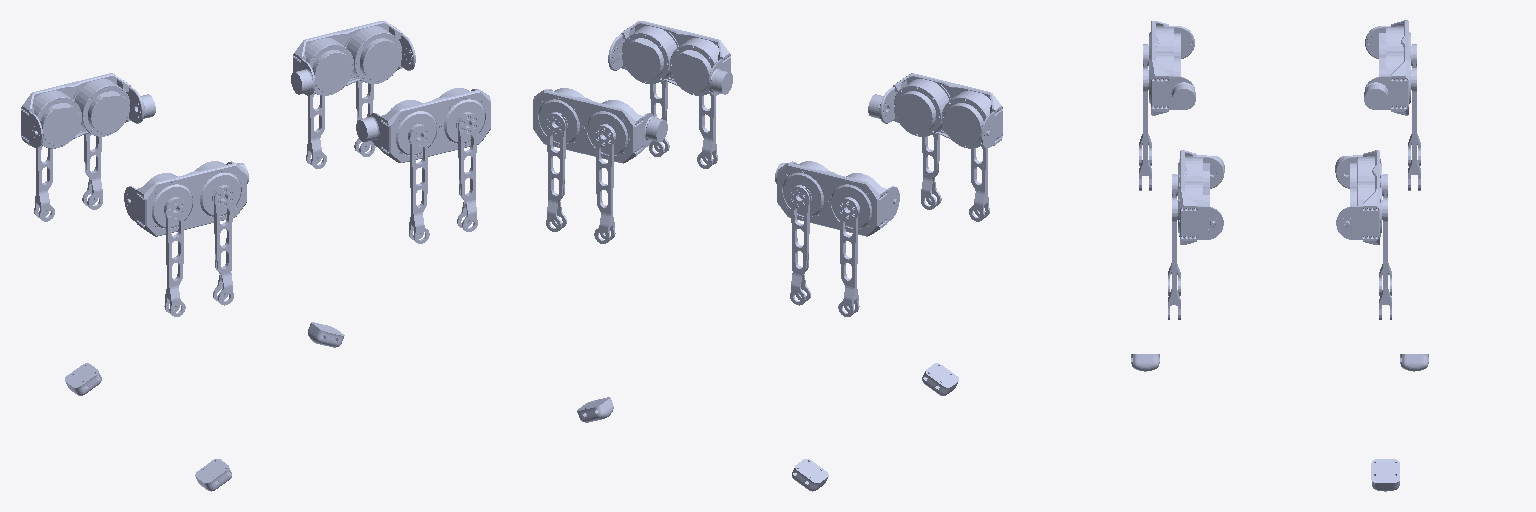
--- What the picture shows (computed from the rendered views, not written in the file) ---
The picture shows the robot from 3 angles, left to right: view 1: azimuth 30°, elevation 25°; view 2: azimuth 150°, elevation 25°; view 3: azimuth 270°, elevation 25°; orthographic projection.
Model olympus_description with 26 links and 25 joints (20 revolute, 5 fixed), rooted at world, posed all joints at 0.
Visible links, largest first — view 1: BackLeft_motorHousing, FrontLeft_motorHousing, FrontRight_motorHousing, BackRight_motorHousing, BackRight_hip_inner, FrontRight_hip_outer, FrontRight_hip_inner, BackRight_hip_outer, BackLeft_hip_inner, BackLeft_hip_outer, FrontLeft_hip_inner, BackLeft_paw (+3 smaller); view 2: BackRight_motorHousing, FrontRight_motorHousing, FrontLeft_motorHousing, BackLeft_motorHousing, BackLeft_hip_inner, FrontLeft_hip_outer, FrontLeft_hip_inner, BackLeft_hip_outer, BackRight_hip_inner, BackRight_hip_outer, FrontRight_hip_inner, BackRight_paw (+3 smaller); view 3: BackLeft_motorHousing, BackRight_motorHousing, FrontLeft_motorHousing, FrontRight_motorHousing, FrontLeft_paw, BackRight_hip_inner, BackLeft_hip_inner, FrontRight_hip_outer, FrontLeft_hip_outer.
Link boxes in pixels (<box>): BackLeft_motorHousing: <box>21,73,155,148</box>; FrontLeft_motorHousing: <box>291,21,415,95</box>; FrontRight_motorHousing: <box>356,88,490,162</box>; BackRight_motorHousing: <box>124,161,248,236</box>; BackRight_hip_inner: <box>212,185,234,305</box>; FrontRight_hip_outer: <box>456,112,478,231</box>; FrontRight_hip_inner: <box>408,124,429,243</box>; BackRight_hip_outer: <box>164,197,185,316</box>; BackLeft_hip_inner: <box>82,133,102,209</box>; BackLeft_hip_outer: <box>34,145,54,221</box>; FrontLeft_hip_inner: <box>306,93,326,168</box>; BackLeft_paw: <box>65,363,101,395</box>; BackRight_motorHousing: <box>868,73,1002,148</box>; FrontRight_motorHousing: <box>608,21,732,95</box>; FrontLeft_motorHousing: <box>533,88,667,163</box>; BackLeft_motorHousing: <box>775,161,899,236</box>; BackLeft_hip_inner: <box>789,185,811,305</box>; FrontLeft_hip_outer: <box>545,112,567,231</box>; FrontLeft_hip_inner: <box>594,124,615,243</box>; BackLeft_hip_outer: <box>838,197,859,316</box>; BackRight_hip_inner: <box>921,133,941,209</box>; BackRight_hip_outer: <box>969,145,989,221</box>; FrontRight_hip_inner: <box>697,93,717,168</box>; BackRight_paw: <box>922,363,958,395</box>; BackLeft_motorHousing: <box>1364,20,1410,115</box>; BackRight_motorHousing: <box>1149,21,1195,115</box>; FrontLeft_motorHousing: <box>1335,150,1381,244</box>; FrontRight_motorHousing: <box>1178,150,1224,244</box>; FrontLeft_paw: <box>1371,459,1399,491</box>; BackRight_hip_inner: <box>1139,68,1151,190</box>; BackLeft_hip_inner: <box>1408,68,1420,190</box>; FrontRight_hip_outer: <box>1168,198,1180,319</box>; FrontLeft_hip_outer: <box>1379,198,1391,319</box>.
Size in the robot's own frame: 0.677 by 0.4654 by 0.5616 metres.
15 mesh visuals loaded from 25 distinct referenced files (15 binary STL); not drawn: 10 (reference not matched to a file when rendering).

URDF robot description (olympus_description):
<?xml version="1.0" encoding="utf-8"?>
<!-- This URDF was automatically created by SolidWorks to URDF Exporter! Originally created by Stephen Brawner ([email redacted]) 
     Commit Version: 1.6.0-4-g7f85cfe  Build Version: 1.6.7995.38578
     For more information, please see http://wiki.ros.org/sw_urdf_exporter -->
<robot
  name="olympus_description">

  <link name="world"/>

  <link
    name="Body">
    <inertial>
      <origin
        xyz="-0.0093903 0.00018696 0.011109"
        rpy="0 0 0" />
      <mass
        value="5.679" />
      <inertia
        ixx="0.05428615"
        ixy="-0.00110179"
        ixz="-0.0017034"
        iyy="0.15070598"
        iyz="0.00013585"
        izz="0.19574722" />
    </inertial>
    <visual>
      <origin
        xyz="0 0 0"
        rpy="0 0 0" />
      <geometry>
        <mesh
          filename="package://olympus_description/urdf/meshes/Body.STL" />
      </geometry>
      <material
        name="">
        <color
          rgba="0.79216 0.81961 0.93333 1" />
      </material>
    </visual>
    <collision>
      <origin
        xyz="0 0 0"
        rpy="0 0 0" />
      <geometry>
        <mesh
          filename="package://olympus_description/urdf/meshes/Body.STL" />
      </geometry>
    </collision>
  </link>
  
  <joint name="world_joint" type="fixed" >
    <origin
          xyz="0 0 1"
          rpy="0 0 0" />
      <parent
        link="world" />
      <child
        link="Body" />
  </joint>
  
  <link
    name="FrontLeft_motorHousing">
    <inertial>
      <origin
        xyz="0.092829 0.02913 0.00023828"
        rpy="0 0 0" />
      <mass
        value="1.437" />
      <inertia
        ixx="0.00232895"
        ixy="0.00418147"
        ixz="3.194E-05"
        iyy="0.01861991"
        iyz="4.4E-06"
        izz="0.01948836" />
    </inertial>
    <visual>
      <origin
        xyz="0 0 0"
        rpy="0 0 0" />
      <geometry>
        <mesh
          filename="package://olympus_description/urdf/meshes/FrontLeft_motorHousing.STL" />
      </geometry>
      <material
        name="">
        <color
          rgba="0.79216 0.81961 0.93333 1" />
      </material>
    </visual>
    <collision>
      <origin
        xyz="0 0 0"
        rpy="0 0 0" />
      <geometry>
        <mesh
          filename="package://olympus_description/urdf/meshes/FrontLeft_motorHousing.STL" />
      </geometry>
    </collision>
  </link>
  <joint
    name="FrontLeft_motorHousing_hipAduction_motor3"
    type="revolute">
    <origin
      xyz="0.143300000000002 0.104999999999997 0"
      rpy="0 0 0" />
    <parent
      link="Body" />
    <child
      link="FrontLeft_motorHousing" />
    <axis
      xyz="-1 0 0" />
    <limit
      lower="-1.57"
      upper="1.57"
      effort="0"
      velocity="0" />
  </joint>
  <link
    name="FrontLeft_hip_outer">
    <inertial>
      <origin
        xyz="0.00087097 -0.0026333 -0.059284"
        rpy="0 0 0" />
      <mass
        value="0.0813" />
      <inertia
        ixx="0.00080451"
        ixy="7E-08"
        ixz="-1.097E-05"
        iyy="0.00081035"
        iyz="-4.68E-06"
        izz="8.51E-06" />
    </inertial>
    <visual>
      <origin
        xyz="0 0 0"
        rpy="0 0 0" />
      <geometry>
        <mesh
          filename="package://olympus_description/urdf/meshes/FrontLeft_hip_outer.STL" />
      </geometry>
      <material
        name="">
        <color
          rgba="0.79216 0.81961 0.93333 1" />
      </material>
    </visual>
    <collision>
      <origin
        xyz="0 0 0"
        rpy="0 0 0" />
      <geometry>
        <mesh
          filename="package://olympus_description/urdf/meshes/FrontLeft_hip_outer.STL" />
      </geometry>
    </collision>
  </link>
  <joint
    name="FrontLeft_hip_outer_motor1"
    type="revolute">
    <origin
      xyz="0.141699999999999 0.0594499999999993 -1.13383701894222E-05"
      rpy="0 0 0" />
    <parent
      link="FrontLeft_motorHousing" />
    <child
      link="FrontLeft_hip_outer" />
    <axis
      xyz="0 1 0" />
    <limit
      lower="-1.57"
      upper="1.57"
      effort="0"
      velocity="0" />
  </joint>
  <link
    name="FrontLeft_shank_outer">
    <inertial>
      <origin
        xyz="0.0044745 -6.207E-07 -0.16466"
        rpy="0 0 0" />
      <mass
        value="0.1992" />
      <inertia
        ixx="0.0081046"
        ixy="3E-08"
        ixz="-8.7E-05"
        iyy="0.00810896"
        iyz="-1.7E-06"
        izz="2.321E-05" />
    </inertial>
    <visual>
      <origin
        xyz="0 0 0"
        rpy="0 0 0" />
      <geometry>
        <mesh
          filename="package://olympus_description/urdf/meshes/FrontLeft_shank_outer.STL" />
      </geometry>
      <material
        name="">
        <color
          rgba="0.79216 0.81961 0.93333 1" />
      </material>
    </visual>
    <collision>
      <origin
        xyz="0 0 0"
        rpy="0 0 0" />
      <geometry>
        <mesh
          filename="package://olympus_description/urdf/meshes/FrontLeft_shank_outer.STL" />
      </geometry>
    </collision>
  </link>
  <joint
    name="FrontLeft_shank_outer_knee"
    type="revolute">
    <origin
      xyz="0 0.000749999999999196 -0.175000000000029"
      rpy="0 0.145529485228563 0" />
    <parent
      link="FrontLeft_hip_outer" />
    <child
      link="FrontLeft_shank_outer" />
    <axis
      xyz="0 1 0" />
    <limit
      lower="-1.57"
      upper="1.57"
      effort="0"
      velocity="0" />
  </joint>
  <link
    name="FrontLeft_hip_inner">
    <inertial>
      <origin
        xyz="-0.00087111 -0.0026375 -0.059532"
        rpy="0 0 0" />
      <mass
        value="0.081" />
      <inertia
        ixx="0.00080743"
        ixy="-7E-08"
        ixz="1.1E-05"
        iyy="0.00081318"
        iyz="-4.71E-06"
        izz="3.7587E-06" />
    </inertial>
    <visual>
      <origin
        xyz="0 0 0"
        rpy="0 0 0" />
      <geometry>
        <mesh
          filename="package://olympus_description/urdf/meshes/FrontLeft_hip_inner.STL" />
      </geometry>
      <material
        name="">
        <color
          rgba="0.79216 0.81961 0.93333 1" />
      </material>
    </visual>
    <collision>
      <origin
        xyz="0 0 0"
        rpy="0 0 0" />
      <geometry>
        <mesh
          filename="package://olympus_description/urdf/meshes/FrontLeft_hip_inner.STL" />
      </geometry>
    </collision>
  </link>
  <joint
    name="FrontLeft_hip_inner_motor2"
    type="revolute">
    <origin
      xyz="0.051699999999999 0.0594499999999993 -1.1338370204463E-05"
      rpy="0 0 0" />
    <parent
      link="FrontLeft_motorHousing" />
    <child
      link="FrontLeft_hip_inner" />
    <axis
      xyz="0 1 0" />
    <limit
      lower="-1.57"
      upper="1.57"
      effort="0"
      velocity="0" />
  </joint>
  <link
    name="FrontLeft_shank_inner">
    <inertial>
      <origin
        xyz="-0.018257 -5.7848E-07 -0.18193"
        rpy="0 0 0" />
      <mass
        value="0.1993" />
      <inertia
        ixx="0.00799515"
        ixy="-1.3E-07"
        ixz="0.00072855"
        iyy="0.00807089"
        iyz="-1.55E-06"
        izz="9.64E-05" />
    </inertial>
    <visual>
      <origin
        xyz="0 0 0"
        rpy="0 0 0" />
      <geometry>
        <mesh
          filename="package://olympus_description/urdf/meshes/FrontLeft_shank_inner.STL" />
      </geometry>
      <material
        name="">
        <color
          rgba="0.79216 0.81961 0.93333 1" />
      </material>
    </visual>
    <collision>
      <origin
        xyz="0 0 0"
        rpy="0 0 0" />
      <geometry>
        <mesh
          filename="package://olympus_description/urdf/meshes/FrontLeft_shank_inner.STL" />
      </geometry>
    </collision>
  </link>
  <joint
    name="FrontLeft_shank_inner_knee"
    type="revolute">
    <origin
      xyz="0 0.000750000000007855 -0.175000000000014"
      rpy="0 -0.156107447167547 0" />
    <parent
      link="FrontLeft_hip_inner" />
    <child
      link="FrontLeft_shank_inner" />
    <axis
      xyz="0 1 0" />
    <limit
      lower="-1.57"
      upper="1.57"
      effort="0"
      velocity="0" />
  </joint>
  <link
    name="FrontLeft_paw">
    <inertial>
      <origin
        xyz="-0.00016141 -2.5484E-07 0.0013973"
        rpy="0 0 0" />
      <mass
        value="0.02" />
      <inertia
        ixx="3.73E-06"
        ixy="-2.6396E-10"
        ixz="-2E-08"
        iyy="4.78E-06"
        iyz="-7.8092E-11"
        izz="6.37E-06" />
    </inertial>
    <visual>
      <origin
        xyz="0 0 0"
        rpy="0 0 0" />
      <geometry>
        <mesh
          filename="package://olympus_description/urdf/meshes/FrontLeft_paw.STL" />
      </geometry>
      <material
        name="">
        <color
          rgba="0.79216 0.81961 0.93333 1" />
      </material>
    </visual>
    <collision>
      <origin
        xyz="0 0 0"
        rpy="0 0 0" />
      <geometry>
        <mesh
          filename="package://olympus_description/urdf/meshes/FrontLeft_paw.STL" />
      </geometry>
    </collision>
  </link>
  <joint
    name="FrontLeft_paw"
    type="fixed">
    <origin
      xyz="-0.034316172849209 0 -0.318287120023731"
      rpy="0 -0.587745839939292 3.14159265358979" />
    <parent
      link="FrontLeft_shank_inner" />
    <child
      link="FrontLeft_paw" />
    <axis
      xyz="0 0 0" />
  </joint>
  <link
    name="FrontRight_motorHousing">
    <inertial>
      <origin
        xyz="0.092829 -0.02913 -0.00023828"
        rpy="0 0 0" />
      <mass
        value="1.4374" />
      <inertia
        ixx="0.00232895"
        ixy="-0.00418147"
        ixz="-3.194E-05"
        iyy="0.01861991"
        iyz="4.4E-06"
        izz="0.01948836" />
    </inertial>
    <visual>
      <origin
        xyz="0 0 0"
        rpy="0 0 0" />
      <geometry>
        <mesh
          filename="package://olympus_description/urdf/meshes/FrontRight_motorHousing.STL" />
      </geometry>
      <material
        name="">
        <color
          rgba="0.79216 0.81961 0.93333 1" />
      </material>
    </visual>
    <collision>
      <origin
        xyz="0 0 0"
        rpy="0 0 0" />
      <geometry>
        <mesh
          filename="package://olympus_description/urdf/meshes/FrontRight_motorHousing.STL" />
      </geometry>
    </collision>
  </link>
  <joint
    name="FrontRight_motorHousing_hipAduction_motor6"
    type="revolute">
    <origin
      xyz="0.143300000000001 -0.104999999999999 0"
      rpy="0 0 0" />
    <parent
      link="Body" />
    <child
      link="FrontRight_motorHousing" />
    <axis
      xyz="-1 0 0" />
    <limit
      lower="-1.57"
      upper="1.57"
      effort="0"
      velocity="0" />
  </joint>
  <link
    name="FrontRight_hip_outer">
    <inertial>
      <origin
        xyz="0.00087111 0.0026375 -0.059532"
        rpy="0 0 0" />
      <mass
        value="0.0805" />
      <inertia
        ixx="0.00080743"
        ixy="-7E-08"
        ixz="-1.1E-05"
        iyy="0.00081318"
        iyz="4.71E-06"
        izz="8.42E-06" />
    </inertial>
    <visual>
      <origin
        xyz="0 0 0"
        rpy="0 0 0" />
      <geometry>
        <mesh
          filename="package://olympus_description/urdf/meshes/FrontRight_hip_outer.STL" />
      </geometry>
      <material
        name="">
        <color
          rgba="0.79216 0.81961 0.93333 1" />
      </material>
    </visual>
    <collision>
      <origin
        xyz="0 0 0"
        rpy="0 0 0" />
      <geometry>
        <mesh
          filename="package://olympus_description/urdf/meshes/FrontRight_hip_outer.STL" />
      </geometry>
    </collision>
  </link>
  <joint
    name="FrontRight_hip_outer_motor4"
    type="revolute">
    <origin
      xyz="0.141700000000001 -0.0594500000000023 1.13383701978259E-05"
      rpy="0 0 0" />
    <parent
      link="FrontRight_motorHousing" />
    <child
      link="FrontRight_hip_outer" />
    <axis
      xyz="0 -1 0" />
    <limit
      lower="-1.57"
      upper="1.57"
      effort="0"
      velocity="0" />
  </joint>
  <link
    name="FrontRight_shank_outer">
    <inertial>
      <origin
        xyz="0.0044745 -6.1929E-07 -0.16466"
        rpy="0 0 0" />
      <mass
        value="0.1992" />
      <inertia
        ixx="0.0081046"
        ixy="3E-08"
        ixz="-8.7E-05"
        iyy="0.00810896"
        iyz="-1.7E-06"
        izz="2.321E-05" />
    </inertial>
    <visual>
      <origin
        xyz="0 0 0"
        rpy="0 0 0" />
      <geometry>
        <mesh
          filename="package://olympus_description/urdf/meshes/FrontRight_shank_outer.STL" />
      </geometry>
      <material
        name="">
        <color
          rgba="0.79216 0.81961 0.93333 1" />
      </material>
    </visual>
    <collision>
      <origin
        xyz="0 0 0"
        rpy="0 0 0" />
      <geometry>
        <mesh
          filename="package://olympus_description/urdf/meshes/FrontRight_shank_outer.STL" />
      </geometry>
    </collision>
  </link>
  <joint
    name="FrontRight_shank_outer_knee"
    type="revolute">
    <origin
      xyz="0 -0.000750000000000334 -0.174999999999994"
      rpy="0 0.145529485228574 0" />
    <parent
      link="FrontRight_hip_outer" />
    <child
      link="FrontRight_shank_outer" />
    <axis
      xyz="0 1 0" />
    <limit
      lower="-1.57"
      upper="1.57"
      effort="0"
      velocity="0" />
  </joint>
  <link
    name="FrontRight_hip_inner">
    <inertial>
      <origin
        xyz="-0.00087097 0.0026333 -0.059284"
        rpy="0 0 0" />
      <mass
        value="0.081" />
      <inertia
        ixx="0.00080451"
        ixy="7E-08"
        ixz="1.098E-05"
        iyy="0.00081035"
        iyz="4.68E-06"
        izz="8.51E-06" />
    </inertial>
    <visual>
      <origin
        xyz="0 0 0"
        rpy="0 0 0" />
      <geometry>
        <mesh
          filename="package://olympus_description/urdf/meshes/FrontRight_hip_inner.STL" />
      </geometry>
      <material
        name="">
        <color
          rgba="0.79216 0.81961 0.93333 1" />
      </material>
    </visual>
    <collision>
      <origin
        xyz="0 0 0"
        rpy="0 0 0" />
      <geometry>
        <mesh
          filename="package://olympus_description/urdf/meshes/FrontRight_hip_inner.STL" />
      </geometry>
    </collision>
  </link>
  <joint
    name="FrontRight_hip_inner_motor5"
    type="revolute">
    <origin
      xyz="0.0517000000000003 -0.0594500000000019 1.13383701956029E-05"
      rpy="0 0 0" />
    <parent
      link="FrontRight_motorHousing" />
    <child
      link="FrontRight_hip_inner" />
    <axis
      xyz="0 1 0" />
    <limit
      lower="-1.57"
      upper="1.57"
      effort="0"
      velocity="0" />
  </joint>
  <link
    name="FrontRight_shank_inner">
    <inertial>
      <origin
        xyz="-0.018257 -5.8199E-07 -0.18193"
        rpy="0 0 0" />
      <mass
        value="0.1992" />
      <inertia
        ixx="0.00799515"
        ixy="-1.3E-07"
        ixz="0.00072855"
        iyy="0.00807089"
        iyz="-1.55E-06"
        izz="9.64E-05" />
    </inertial>
    <visual>
      <origin
        xyz="0 0 0"
        rpy="0 0 0" />
      <geometry>
        <mesh
          filename="package://olympus_description/urdf/meshes/FrontRight_shank_inner.STL" />
      </geometry>
      <material
        name="">
        <color
          rgba="0.79216 0.81961 0.93333 1" />
      </material>
    </visual>
    <collision>
      <origin
        xyz="0 0 0"
        rpy="0 0 0" />
      <geometry>
        <mesh
          filename="package://olympus_description/urdf/meshes/FrontRight_shank_inner.STL" />
      </geometry>
    </collision>
  </link>
  <joint
    name="FrontRight_shank_inner_knee"
    type="revolute">
    <origin
      xyz="0 -0.000749999999992201 -0.174999999999991"
      rpy="0 -0.156107447167536 0" />
    <parent
      link="FrontRight_hip_inner" />
    <child
      link="FrontRight_shank_inner" />
    <axis
      xyz="0 1 0" />
    <limit
      lower="-1.57"
      upper="1.57"
      effort="0"
      velocity="0" />
  </joint>
  <link
    name="FrontRight_paw">
    <inertial>
      <origin
        xyz="-0.00016141 -2.5484E-07 0.0013973"
        rpy="0 0 0" />
      <mass
        value="0.02" />
      <inertia
        ixx="3.73E-06"
        ixy="0"
        ixz="-2E-08"
        iyy="4.78E-06"
        iyz="0"
        izz="6.37E-06" />
    </inertial>
    <visual>
      <origin
        xyz="0 0 0"
        rpy="0 0 0" />
      <geometry>
        <mesh
          filename="package://olympus_description/urdf/meshes/FrontRight_paw.STL" />
      </geometry>
      <material
        name="">
        <color
          rgba="0.79216 0.81961 0.93333 1" />
      </material>
    </visual>
    <collision>
      <origin
        xyz="0 0 0"
        rpy="0 0 0" />
      <geometry>
        <mesh
          filename="package://olympus_description/urdf/meshes/FrontRight_paw.STL" />
      </geometry>
    </collision>
  </link>
  <joint
    name="FrontRight_paw"
    type="fixed">
    <origin
      xyz="-0.0343161728492139 0 -0.318287120023735"
      rpy="0 -0.587745839939292 3.14159265358979" />
    <parent
      link="FrontRight_shank_inner" />
    <child
      link="FrontRight_paw" />
    <axis
      xyz="0 0 0" />
  </joint>
  <link
    name="BackLeft_motorHousing">
    <inertial>
      <origin
        xyz="-0.092829 0.02913 -0.00023828"
        rpy="0 0 0" />
      <mass
        value="1.437" />
      <inertia
        ixx="0.00232895"
        ixy="-0.00418147"
        ixz="3.194E-05"
        iyy="0.01861991"
        iyz="-4.4E-06"
        izz="0.01948836" />
    </inertial>
    <visual>
      <origin
        xyz="0 0 0"
        rpy="0 0 0" />
      <geometry>
        <mesh
          filename="package://olympus_description/urdf/meshes/BackLeft_motorHousing.STL" />
      </geometry>
      <material
        name="">
        <color
          rgba="0.79216 0.81961 0.93333 1" />
      </material>
    </visual>
    <collision>
      <origin
        xyz="0 0 0"
        rpy="0 0 0" />
      <geometry>
        <mesh
          filename="package://olympus_description/urdf/meshes/BackLeft_motorHousing.STL" />
      </geometry>
    </collision>
  </link>
  <joint
    name="BackLeft_motorHousing_hipAduction_motor9"
    type="revolute">
    <origin
      xyz="-0.143300000000002 0.149999999999995 0"
      rpy="0 0 0" />
    <parent
      link="Body" />
    <child
      link="BackLeft_motorHousing" />
    <axis
      xyz="1 0 0" />
    <limit
      lower="-1.57"
      upper="1.57"
      effort="0"
      velocity="0" />
  </joint>
  <link
    name="BackLeft_hip_outer">
    <inertial>
      <origin
        xyz="-0.00087111 -0.0026375 -0.059532"
        rpy="0 0 0" />
      <mass
        value="0.0805" />
      <inertia
        ixx="0.00080743"
        ixy="-7E-08"
        ixz="1.1E-05"
        iyy="0.00081318"
        iyz="-4.71E-06"
        izz="8.42E-06" />
    </inertial>
    <visual>
      <origin
        xyz="0 0 0"
        rpy="0 0 0" />
      <geometry>
        <mesh
          filename="package://olympus_description/urdf/meshes/BackLeft_hip_outer.STL" />
      </geometry>
      <material
        name="">
        <color
          rgba="0.79216 0.81961 0.93333 1" />
      </material>
    </visual>
    <collision>
      <origin
        xyz="0 0 0"
        rpy="0 0 0" />
      <geometry>
        <mesh
          filename="package://olympus_description/urdf/meshes/BackLeft_hip_outer.STL" />
      </geometry>
    </collision>
  </link>
  <joint
    name="BackLeft_hip_outer_motor7"
    type="revolute">
    <origin
      xyz="-0.141699999999998 0.059450000000001 1.13383699833258E-05"
      rpy="0 0 0" />
    <parent
      link="BackLeft_motorHousing" />
    <child
      link="BackLeft_hip_outer" />
    <axis
      xyz="0 -1 0" />
    <limit
      lower="-1.57"
      upper="1.57"
      effort="0"
      velocity="0" />
  </joint>
  <link
    name="BackLeft_shank_outer">
    <inertial>
      <origin
        xyz="-0.0044745 6.2096E-07 -0.16466"
        rpy="0 0 0" />
      <mass
        value="0.1992" />
      <inertia
        ixx="0.0081046"
        ixy="3E-08"
        ixz="8.7E-05"
        iyy="0.00810896"
        iyz="1.7E-06"
        izz="2.321E-05" />
    </inertial>
    <visual>
      <origin
        xyz="0 0 0"
        rpy="0 0 0" />
      <geometry>
        <mesh
          filename="package://olympus_description/urdf/meshes/BackLeft_shank_outer.STL" />
      </geometry>
      <material
        name="">
        <color
          rgba="0.79216 0.81961 0.93333 1" />
      </material>
    </visual>
    <collision>
      <origin
        xyz="0 0 0"
        rpy="0 0 0" />
      <geometry>
        <mesh
          filename="package://olympus_description/urdf/meshes/BackLeft_shank_outer.STL" />
      </geometry>
    </collision>
  </link>
  <joint
    name="BackLeft_shank_outer_knee"
    type="revolute">
    <origin
      xyz="0 0.000749999999989648 -0.174999999999787"
      rpy="0 -0.145529485231085 0" />
    <parent
      link="BackLeft_hip_outer" />
    <child
      link="BackLeft_shank_outer" />
    <axis
      xyz="0 1 0" />
    <limit
      lower="-1.57"
      upper="1.57"
      effort="0"
      velocity="0" />
  </joint>
  <link
    name="BackLeft_hip_inner">
    <inertial>
      <origin
        xyz="0.00087097 -0.0026333 -0.059284"
        rpy="0 0 0" />
      <mass
        value="0.081" />
      <inertia
        ixx="0.00080451"
        ixy="7E-08"
        ixz="-1.097E-05"
        iyy="0.00081035"
        iyz="-4.68E-06"
        izz="8.51E-06" />
    </inertial>
    <visual>
      <origin
        xyz="0 0 0"
        rpy="0 0 0" />
      <geometry>
        <mesh
          filename="package://olympus_description/urdf/meshes/BackLeft_hip_inner.STL" />
      </geometry>
      <material
        name="">
        <color
          rgba="0.79216 0.81961 0.93333 1" />
      </material>
    </visual>
    <collision>
      <origin
        xyz="0 0 0"
        rpy="0 0 0" />
      <geometry>
        <mesh
          filename="package://olympus_description/urdf/meshes/BackLeft_hip_inner.STL" />
      </geometry>
    </collision>
  </link>
  <joint
    name="BackLeft_hip_inner_motor8"
    type="revolute">
    <origin
      xyz="-0.0516999999999978 0.0594500000000004 1.13383700547322E-05"
      rpy="0 0 0" />
    <parent
      link="BackLeft_motorHousing" />
    <child
      link="BackLeft_hip_inner" />
    <axis
      xyz="0 -1 0" />
    <limit
      lower="-1.57"
      upper="1.57"
      effort="0"
      velocity="0" />
  </joint>
  <link
    name="BackLeft_shank_inner">
    <inertial>
      <origin
        xyz="0.018257 5.8939E-07 -0.18193"
        rpy="0 0 0" />
      <mass
        value="0.1993" />
      <inertia
        ixx="0.00799515"
        ixy="-1.3E-07"
        ixz="-0.00072855"
        iyy="0.00807089"
        iyz="1.55E-06"
        izz="9.64E-05" />
    </inertial>
    <visual>
      <origin
        xyz="0 0 0"
        rpy="0 0 0" />
      <geometry>
        <mesh
          filename="package://olympus_description/urdf/meshes/BackLeft_shank_inner.STL" />
      </geometry>
      <material
        name="">
        <color
          rgba="0.79216 0.81961 0.93333 1" />
      </material>
    </visual>
    <collision>
      <origin
        xyz="0 0 0"
        rpy="0 0 0" />
      <geometry>
        <mesh
          filename="package://olympus_description/urdf/meshes/BackLeft_shank_inner.STL" />
      </geometry>
    </collision>
  </link>
  <joint
    name="BackLeft_shank_inner_knee"
    type="revolute">
    <origin
      xyz="0 0.000749999999984485 -0.174999999999858"
      rpy="0 0.156107447167218 0" />
    <parent
      link="BackLeft_hip_inner" />
    <child
      link="BackLeft_shank_inner" />
    <axis
      xyz="0 1 0" />
    <limit
      lower="-1.57"
      upper="1.57"
      effort="0"
      velocity="0" />
  </joint>
  <link
    name="BackLeft_paw">
    <inertial>
      <origin
        xyz="0.00016141 2.5484E-07 0.0013973"
        rpy="0 0 0" />
      <mass
        value="0.02" />
      <inertia
        ixx="1.236E-05"
        ixy="0"
        ixz="5E-08"
        iyy="1.587E-05"
        iyz="0"
        izz="2.129E-05" />
    </inertial>
    <visual>
      <origin
        xyz="0 0 0"
        rpy="0 0 0" />
      <geometry>
        <mesh
          filename="package://olympus_description/urdf/meshes/BackLeft_paw.STL" />
      </geometry>
      <material
        name="">
        <color
          rgba="0.79216 0.81961 0.93333 1" />
      </material>
    </visual>
    <collision>
      <origin
        xyz="0 0 0"
        rpy="0 0 0" />
      <geometry>
        <mesh
          filename="package://olympus_description/urdf/meshes/BackLeft_paw.STL" />
      </geometry>
    </collision>
  </link>
  <joint
    name="BackLeft_paw"
    type="fixed">
    <origin
      xyz="0.0343161728493504 0 -0.318287120023714"
      rpy="0 0.587745839939292 -3.14159265358976" />
    <parent
      link="BackLeft_shank_inner" />
    <child
      link="BackLeft_paw" />
    <axis
      xyz="0 0 0" />
  </joint>
  <link
    name="BackRight_motorHousing">
    <inertial>
      <origin
        xyz="-0.092829 -0.02913 0.00023828"
        rpy="0 0 0" />
      <mass
        value="1.437" />
      <inertia
        ixx="0.00232895"
        ixy="0.00418147"
        ixz="-3.194E-05"
        iyy="0.01861991"
        iyz="-4.4E-06"
        izz="0.01948836" />
    </inertial>
    <visual>
      <origin
        xyz="0 0 0"
        rpy="0 0 0" />
      <geometry>
        <mesh
          filename="package://olympus_description/urdf/meshes/BackRight_motorHousing.STL" />
      </geometry>
      <material
        name="">
        <color
          rgba="0.79216 0.81961 0.93333 1" />
      </material>
    </visual>
    <collision>
      <origin
        xyz="0 0 0"
        rpy="0 0 0" />
      <geometry>
        <mesh
          filename="package://olympus_description/urdf/meshes/BackRight_motorHousing.STL" />
      </geometry>
    </collision>
  </link>
  <joint
    name="BackRight_motorHousing_hipAduction_motor12"
    type="revolute">
    <origin
      xyz="-0.1433 -0.150000000000002 0"
      rpy="0 0 0" />
    <parent
      link="Body" />
    <child
      link="BackRight_motorHousing" />
    <axis
      xyz="1 0 0" />
    <limit
      lower="-1.57"
      upper="1.57"
      effort="0"
      velocity="0" />
  </joint>
  <link
    name="BackRight_hip_outer">
    <inertial>
      <origin
        xyz="-0.00087097 0.0026333 -0.059284"
        rpy="0 0 0" />
      <mass
        value="0.081" />
      <inertia
        ixx="0.00080451"
        ixy="7E-08"
        ixz="1.098E-05"
        iyy="0.00081035"
        iyz="4.68E-06"
        izz="8.51E-06" />
    </inertial>
    <visual>
      <origin
        xyz="0 0 0"
        rpy="0 0 0" />
      <geometry>
        <mesh
          filename="package://olympus_description/urdf/meshes/BackRight_hip_outer.STL" />
      </geometry>
      <material
        name="">
        <color
          rgba="0.79216 0.81961 0.93333 1" />
      </material>
    </visual>
    <collision>
      <origin
        xyz="0 0 0"
        rpy="0 0 0" />
      <geometry>
        <mesh
          filename="package://olympus_description/urdf/meshes/BackRight_hip_outer.STL" />
      </geometry>
    </collision>
  </link>
  <joint
    name="BackRight_hip_outer_motor10"
    type="revolute">
    <origin
      xyz="-0.1417 -0.0594500000000014 -1.13383706822422E-05"
      rpy="0 0 0" />
    <parent
      link="BackRight_motorHousing" />
    <child
      link="BackRight_hip_outer" />
    <axis
      xyz="0 1 0" />
    <limit
      lower="-1.57"
      upper="1.57"
      effort="0"
      velocity="0" />
  </joint>
  <link
    name="BackRight_shank_outer">
    <inertial>
      <origin
        xyz="-0.0044745 6.1738E-07 -0.16466"
        rpy="0 0 0" />
      <mass
        value="0.1992" />
      <inertia
        ixx="0.0081046"
        ixy="3E-08"
        ixz="8.7E-05"
        iyy="0.00810896"
        iyz="1.7E-06"
        izz="2.321E-05" />
    </inertial>
    <visual>
      <origin
        xyz="0 0 0"
        rpy="0 0 0" />
      <geometry>
        <mesh
          filename="package://olympus_description/urdf/meshes/BackRight_shank_outer.STL" />
      </geometry>
      <material
        name="">
        <color
          rgba="0.79216 0.81961 0.93333 1" />
      </material>
    </visual>
    <collision>
      <origin
        xyz="0 0 0"
        rpy="0 0 0" />
      <geometry>
        <mesh
          filename="package://olympus_description/urdf/meshes/BackRight_shank_outer.STL" />
      </geometry>
    </collision>
  </link>
  <joint
    name="BackRight_shank_outer_knee"
    type="revolute">
    <origin
      xyz="0 -0.000749999999264783 -0.174999999999897"
      rpy="0 -0.145529485225738 0" />
    <parent
      link="BackRight_hip_outer" />
    <child
      link="BackRight_shank_outer" />
    <axis
      xyz="0 1 0" />
    <limit
      lower="-1.57"
      upper="1.57"
      effort="0"
      velocity="0" />
  </joint>
  <link
    name="BackRight_hip_inner">
    <inertial>
      <origin
        xyz="0.00087111 0.0026375 -0.059532"
        rpy="0 0 0" />
      <mass
        value="0.0805" />
      <inertia
        ixx="0.00080743"
        ixy="-7E-08"
        ixz="-1.1E-05"
        iyy="0.00081318"
        iyz="4.71E-06"
        izz="8.42E-06" />
    </inertial>
    <visual>
      <origin
        xyz="0 0 0"
        rpy="0 0 0" />
      <geometry>
        <mesh
          filename="package://olympus_description/urdf/meshes/BackRight_hip_inner.STL" />
      </geometry>
      <material
        name="">
        <color
          rgba="0.79216 0.81961 0.93333 1" />
      </material>
    </visual>
    <collision>
      <origin
        xyz="0 0 0"
        rpy="0 0 0" />
      <geometry>
        <mesh
          filename="package://olympus_description/urdf/meshes/BackRight_hip_inner.STL" />
      </geometry>
    </collision>
  </link>
  <joint
    name="BackRight_hip_inner_motor11"
    type="revolute">
    <origin
      xyz="-0.0517000000000002 -0.0594500000000022 -1.1338370431546E-05"
      rpy="0 0 0" />
    <parent
      link="BackRight_motorHousing" />
    <child
      link="BackRight_hip_inner" />
    <axis
      xyz="0 1 0" />
    <limit
      lower="-1.57"
      upper="1.57"
      effort="0"
      velocity="0" />
  </joint>
  <link
    name="BackRight_shank_inner">
    <inertial>
      <origin
        xyz="0.018257 5.8084E-07 -0.18193"
        rpy="0 0 0" />
      <mass
        value="0.1993" />
      <inertia
        ixx="0.00799515"
        ixy="-1.3E-07"
        ixz="-0.00072855"
        iyy="0.00807089"
        iyz="1.55E-06"
        izz="9.64E-05" />
    </inertial>
    <visual>
      <origin
        xyz="0 0 0"
        rpy="0 0 0" />
      <geometry>
        <mesh
          filename="package://olympus_description/urdf/meshes/BackRight_shank_inner.STL" />
      </geometry>
      <material
        name="">
        <color
          rgba="0.79216 0.81961 0.93333 1" />
      </material>
    </visual>
    <collision>
      <origin
        xyz="0 0 0"
        rpy="0 0 0" />
      <geometry>
        <mesh
          filename="package://olympus_description/urdf/meshes/BackRight_shank_inner.STL" />
      </geometry>
    </collision>
  </link>
  <joint
    name="BackRight_shank_inner_knee"
    type="revolute">
    <origin
      xyz="0 -0.000749999999271611 -0.174999999999955"
      rpy="0 0.156107447164923 0" />
    <parent
      link="BackRight_hip_inner" />
    <child
      link="BackRight_shank_inner" />
    <axis
      xyz="0 1 0" />
    <limit
      lower="-1.57"
      upper="1.57"
      effort="0"
      velocity="0" />
  </joint>
  <link
    name="BackRight_paw">
    <inertial>
      <origin
        xyz="0.00016141 2.5484E-07 0.0013973"
        rpy="0 0 0" />
      <mass
        value="0.02" />
      <inertia
        ixx="1.245E-05"
        ixy="0"
        ixz="6E-08"
        iyy="1.597E-05"
        iyz="0"
        izz="2.129E-05" />
    </inertial>
    <visual>
      <origin
        xyz="0 0 0"
        rpy="0 0 0" />
      <geometry>
        <mesh
          filename="package://olympus_description/urdf/meshes/BackRight_paw.STL" />
      </geometry>
      <material
        name="">
        <color
          rgba="0.79216 0.81961 0.93333 1" />
      </material>
    </visual>
    <collision>
      <origin
        xyz="0 0 0"
        rpy="0 0 0" />
      <geometry>
        <mesh
          filename="package://olympus_description/urdf/meshes/BackRight_paw.STL" />
      </geometry>
    </collision>
  </link>
  <joint
    name="BackRight_paw"
    type="fixed">
    <origin
      xyz="0.0343161728494181 0 -0.318287120023818"
      rpy="0 0.58774583993929 3.14159265358979" />
    <parent
      link="BackRight_shank_inner" />
    <child
      link="BackRight_paw" />
    <axis
      xyz="0 0 0" />
  </joint>
</robot>
